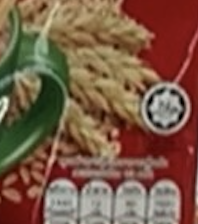halal: (153, 95, 180, 120)
